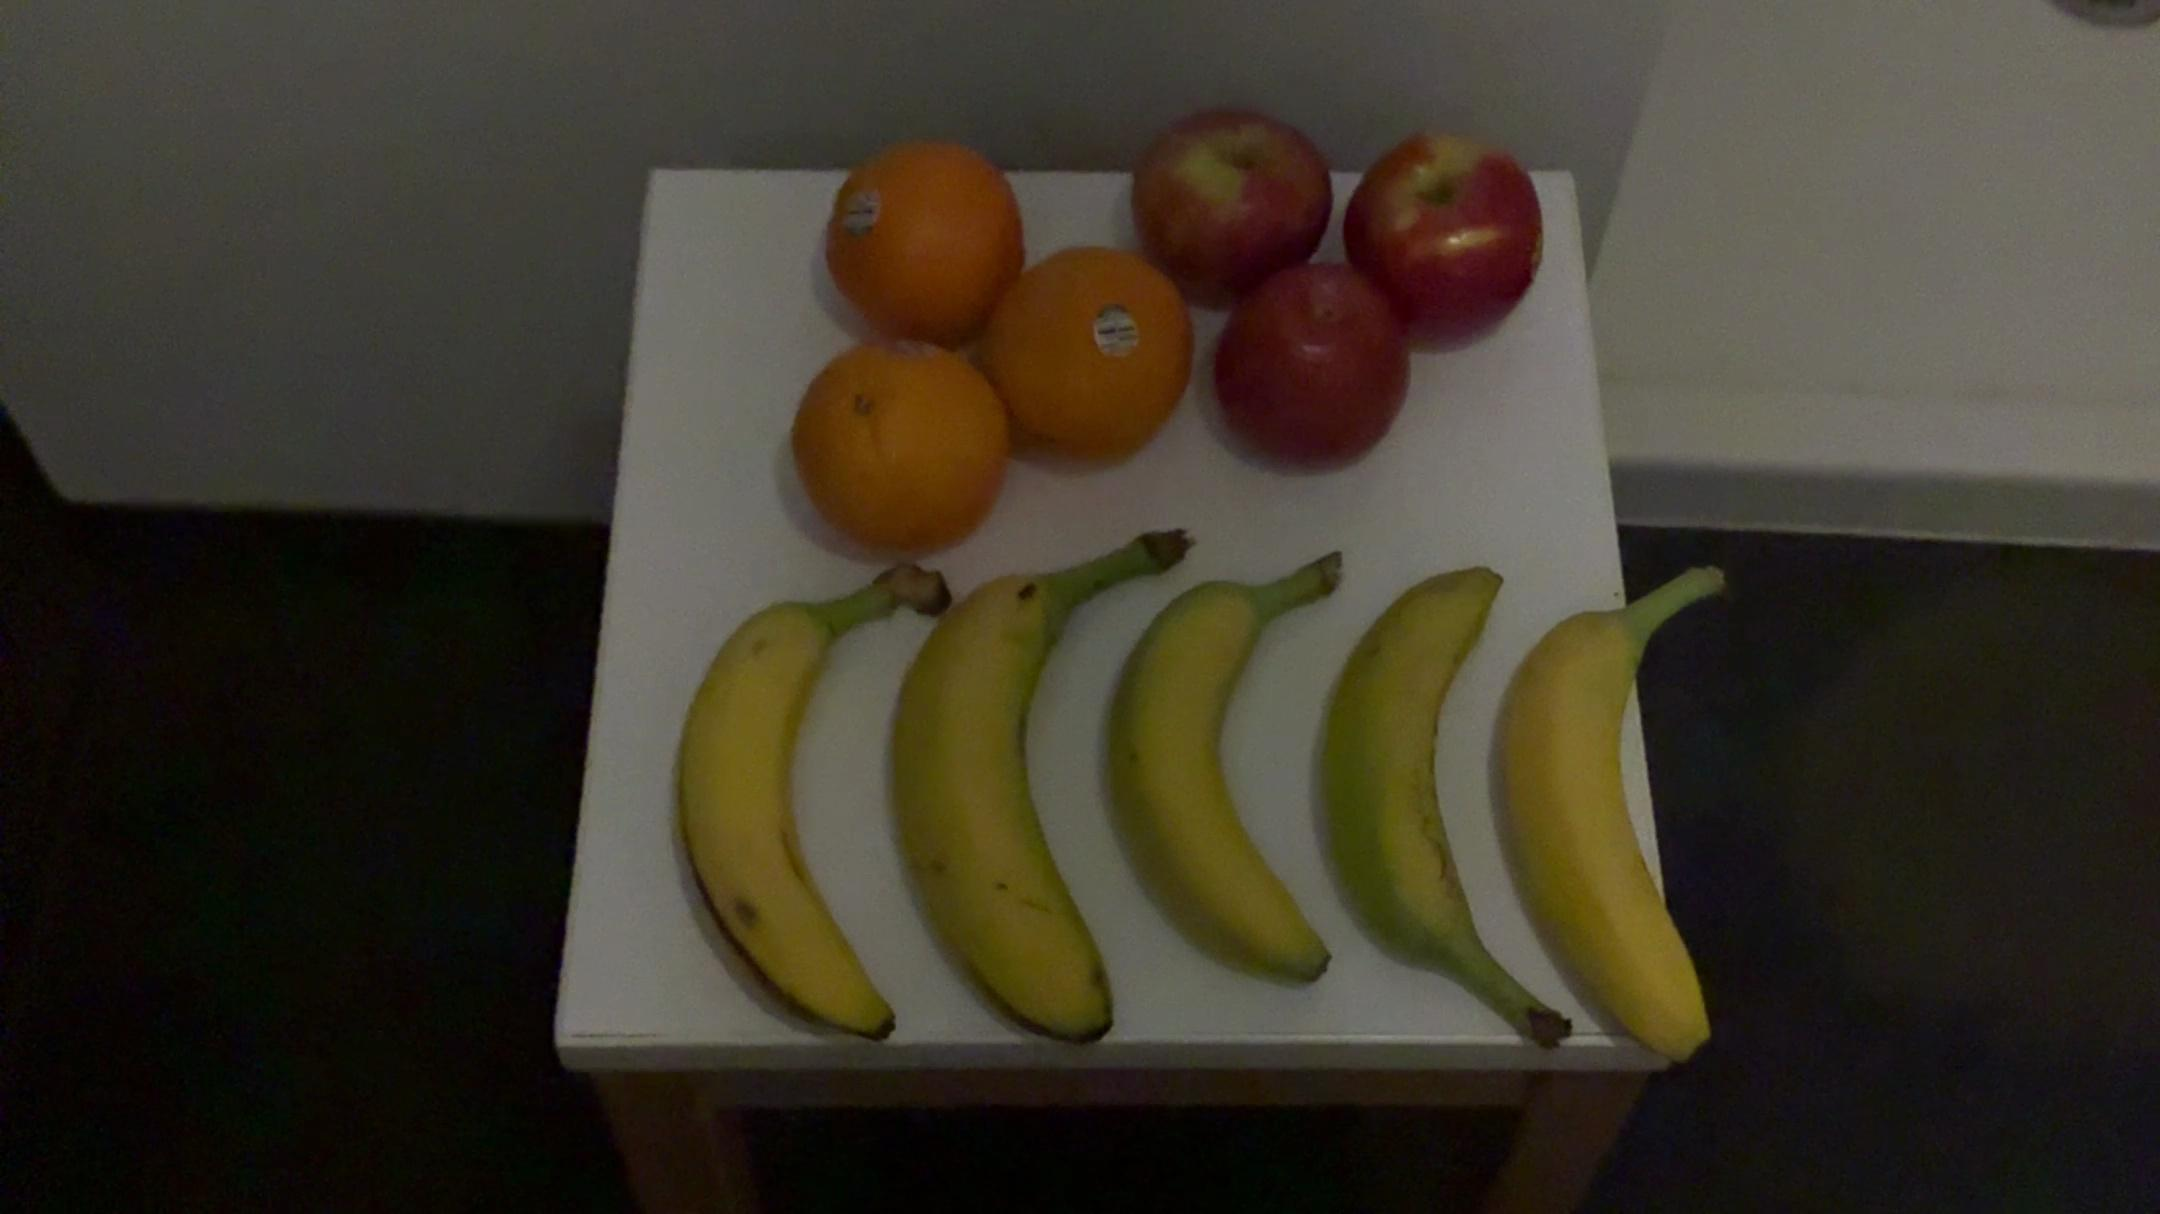apple: (1334, 129, 1552, 352), (1122, 96, 1340, 318), (1196, 263, 1415, 470)
banana: (889, 509, 1175, 1060), (656, 527, 929, 1054), (1308, 557, 1584, 1066), (1484, 549, 1748, 1076), (1090, 548, 1350, 997)
orange: (975, 243, 1196, 482), (780, 337, 1007, 560), (813, 134, 1027, 356)
